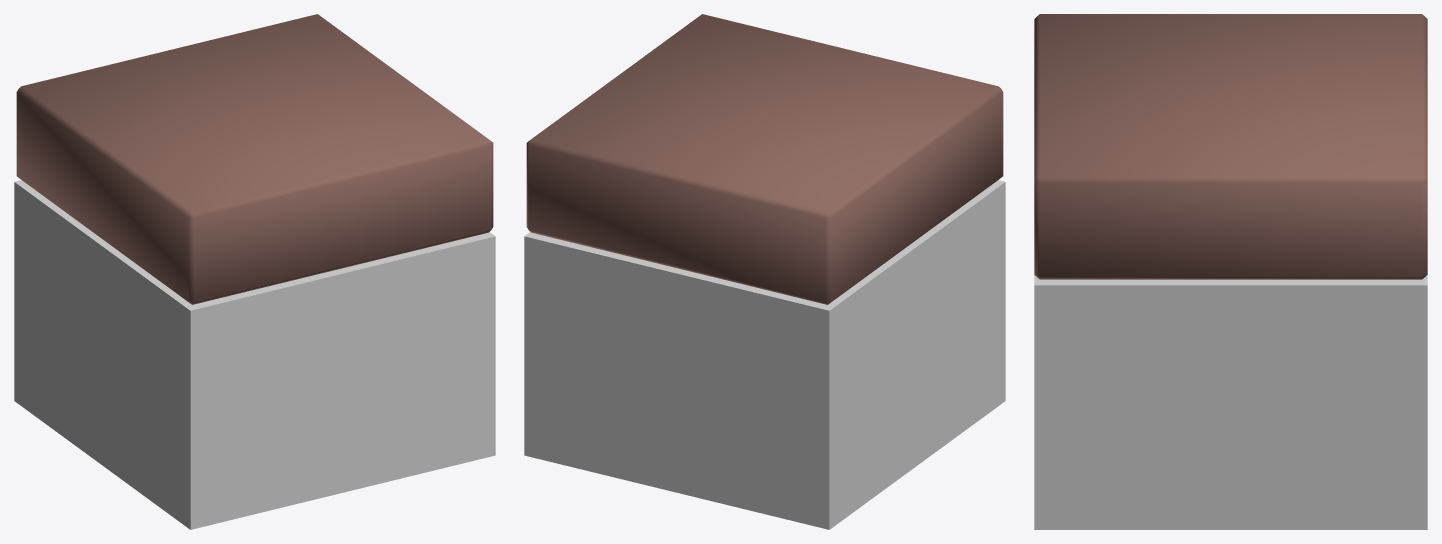
The model's file is Floor13.fbx.
3 renders of one model, left to right at view 1: azimuth 30°, elevation 25°; view 2: azimuth 150°, elevation 25°; view 3: azimuth 270°, elevation 25°, orthographic. The views are drawn at different scales.
Visible parts, largest first — view 1: Cube.290; view 2: Cube.290; view 3: Cube.290.
Part boxes in pixels (x1,y1,x2,y2): Cube.290: (14, 14, 495, 529); Cube.290: (524, 14, 1005, 529); Cube.290: (1034, 14, 1427, 529).
Size of the model in its own units: 100 by 98.75 by 100.
